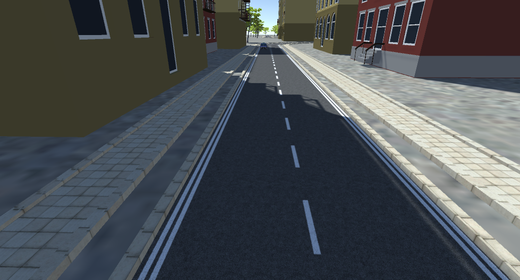centerstrip: (282, 114, 330, 280), (268, 56, 286, 112)
sidestripe: (344, 119, 502, 275), (139, 81, 243, 279), (295, 62, 347, 115)
